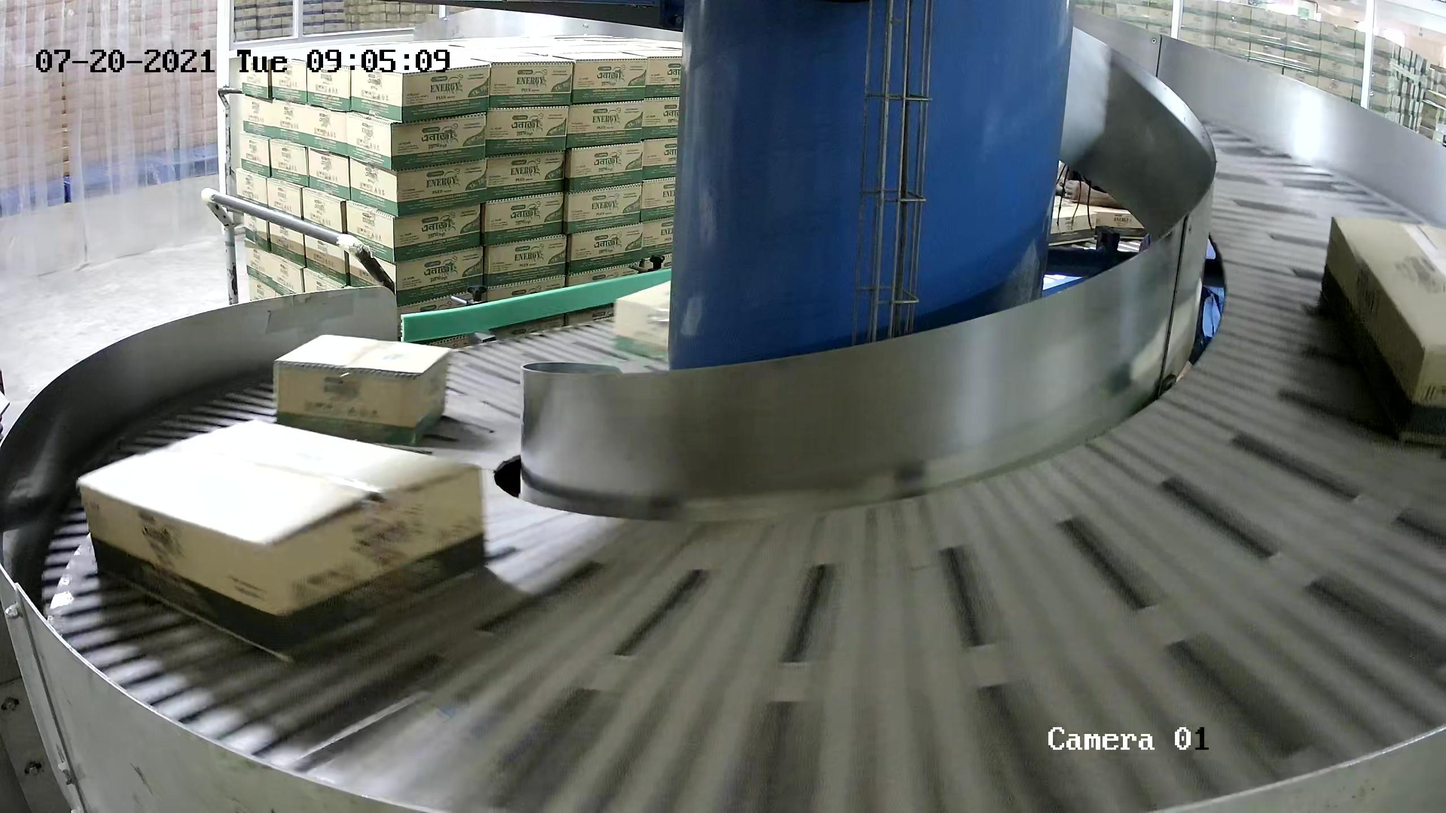Box: (76, 417, 490, 664), (1319, 212, 1446, 447), (272, 331, 454, 449), (611, 278, 673, 363)
